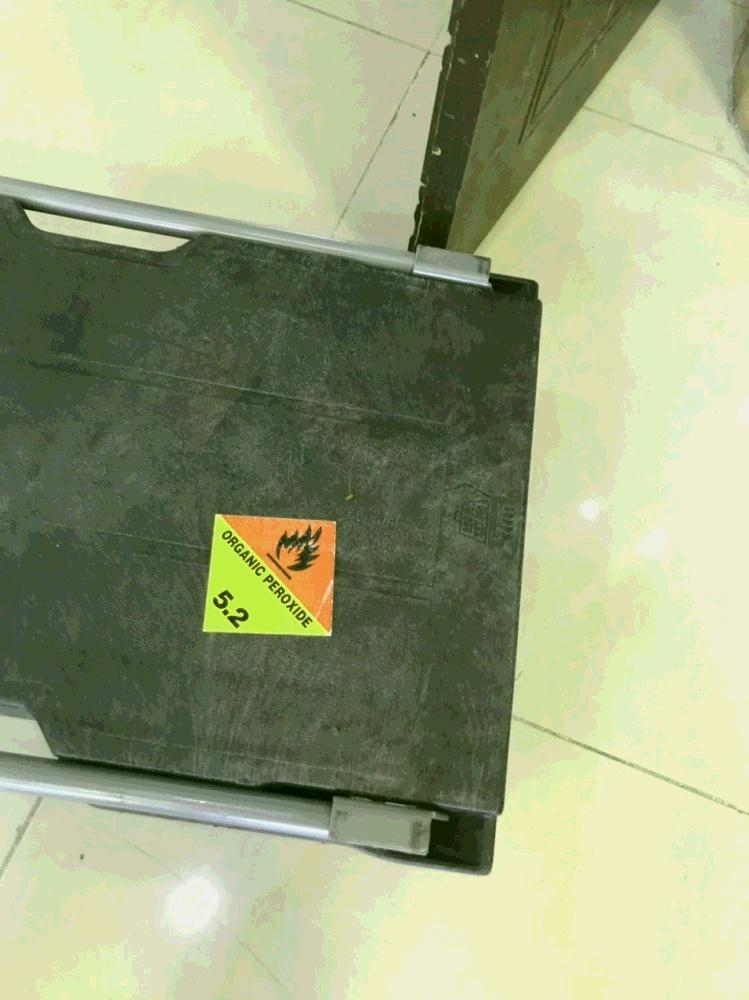organic-peroxide: (198, 508, 340, 641)
